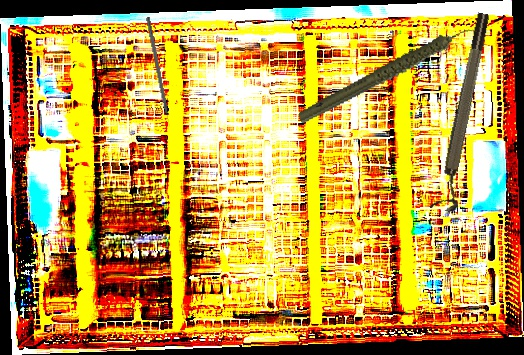Fixation Ring: (429, 11, 502, 214)
Handpiece: (288, 24, 489, 126)
Hook Surgical: (144, 17, 172, 128)
